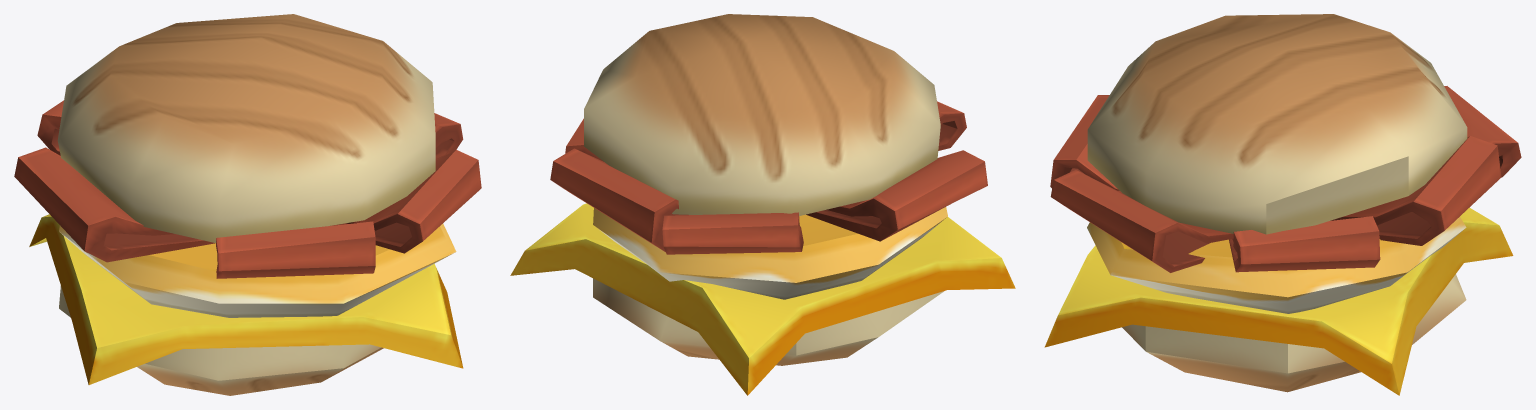
Rendered from ham egg muffin.FBX.
3 views of the same model, side by side, from view 1: azimuth 30°, elevation 25°; view 2: azimuth 150°, elevation 25°; view 3: azimuth 270°, elevation 25° (orthographic). The views are drawn at different scales.
Parts seen in each view (by area): view 1: ham egg muffin; view 2: ham egg muffin; view 3: ham egg muffin.
Boxes of the visible parts, left/top/right/bottom form: ham egg muffin: left=14, top=14, right=481, bottom=395; ham egg muffin: left=510, top=14, right=1015, bottom=395; ham egg muffin: left=1044, top=14, right=1521, bottom=395.
Bounding box in the file's own units: 4.96 × 3.36 × 4.89.
